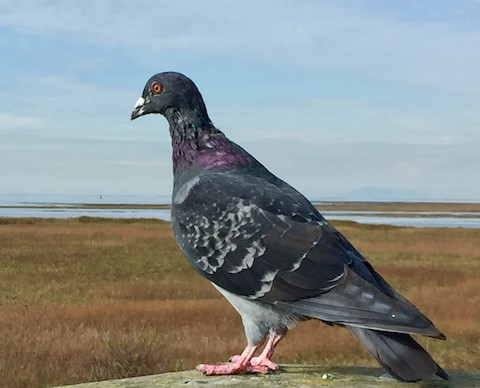pigeon: (122, 68, 455, 379)
